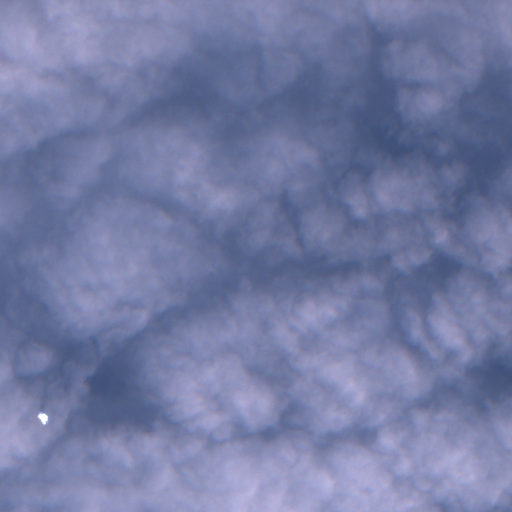Iceberg: (38, 413, 47, 424)
